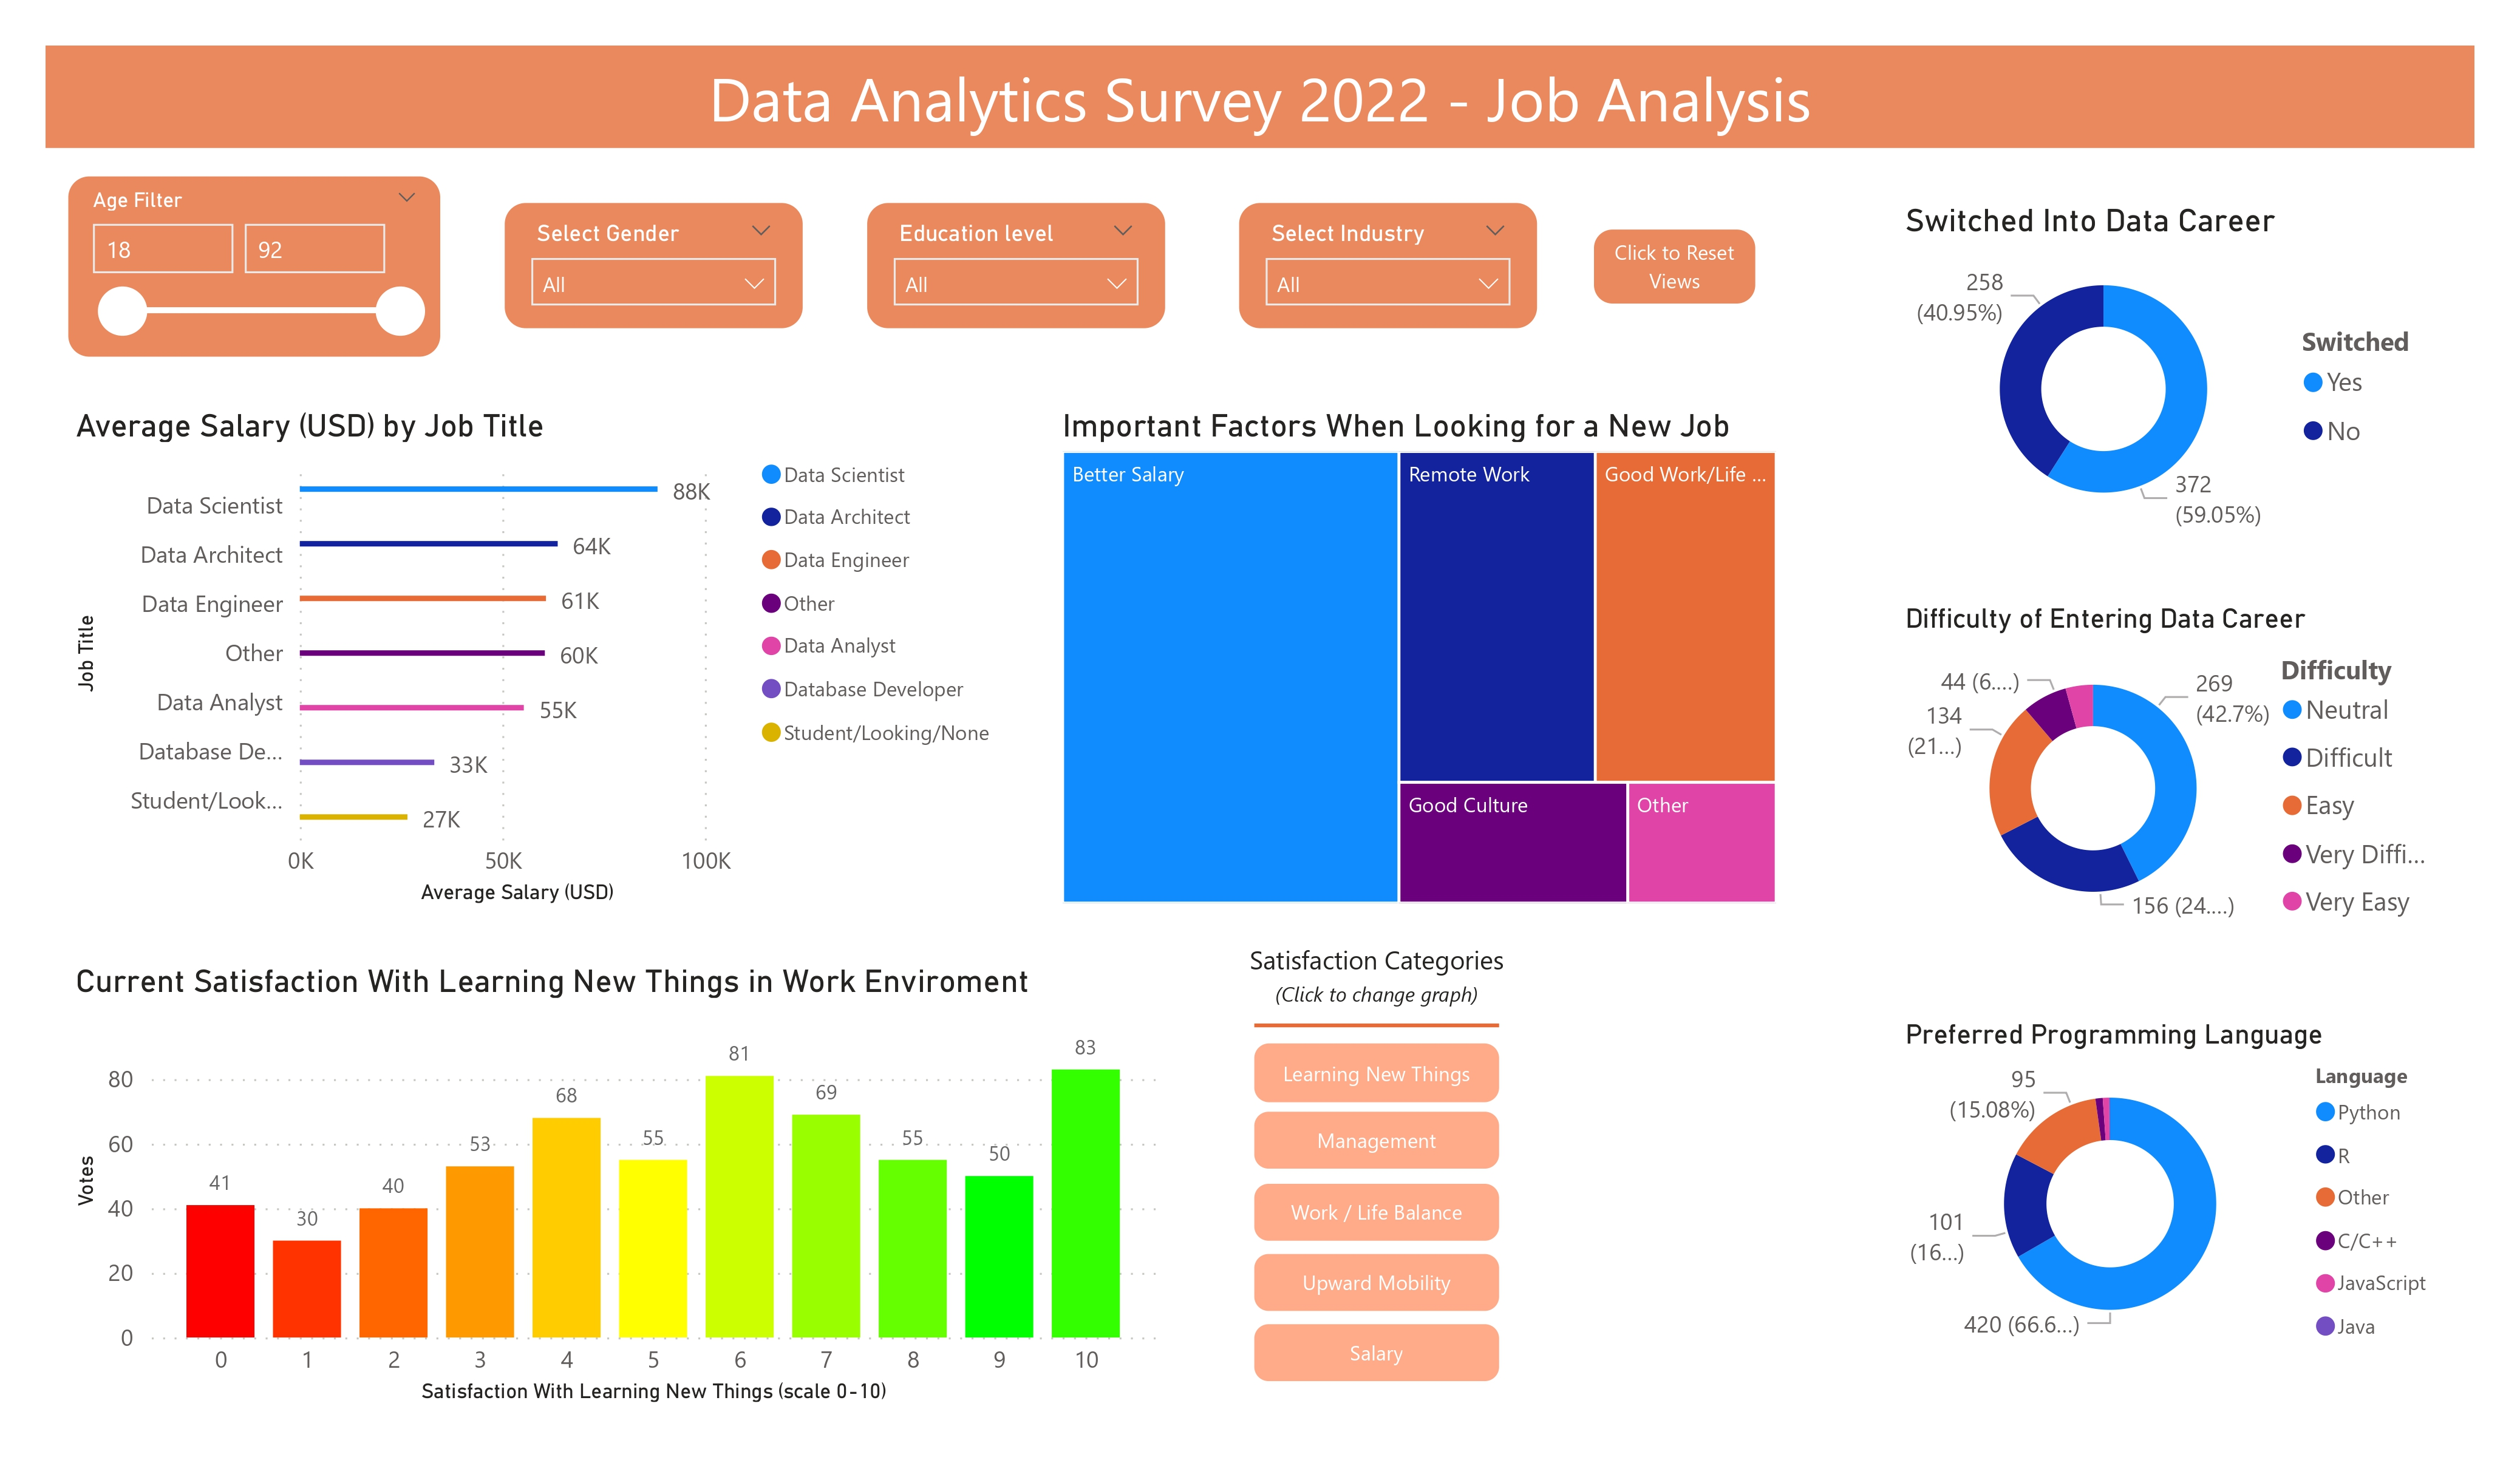

Layout of this report page (visuals, bound fields, positions):
{"tool":"powerbi","page":{"name":"Job Analysis","canvas":[1280,720],"ordinal":1},"visuals":[{"type":"textbox","box":[0,0,1280,54.3],"z":0},{"type":"clusteredBarChart","title":"Average Salary (USD) by Job Title","fields":{"Y":["Avg(Data Professional Survey.Average Salary (USD))"],"Category":["Data Professional Survey.Q1 - Which Title Best Fits your Current Role?"],"Series":["Data Professional Survey.Q1 - Which Title Best Fits your Current Role?"]},"box":[11.2,190.2,500.5,267],"z":3000},{"type":"slicer","fields":{"Values":["Data Professional Survey.Q12 - Highest Level of Education"]},"box":[431.8,82.3,159.2,68.1],"z":4000},{"type":"slicer","fields":{"Values":["Data Professional Survey.Q10 - Current Age"]},"box":[11.5,68.1,197.7,97.2],"z":5000},{"type":"donutChart","title":"Preferred Programming Language","fields":{"Category":["Data Professional Survey.Q5 - Favorite Programming Language"],"Y":["CountNonNull(Data Professional Survey.Unique ID)"]},"box":[974.8,512.8,294.4,178.8],"z":6000},{"type":"donutChart","title":"Switched Into Data Career","fields":{"Category":["Data Professional Survey.Q2 - Did you switch careers into Data?"],"Y":["Count(Data Professional Survey.Unique ID)"]},"box":[974.8,82.3,294.4,178.8],"z":7000},{"type":"donutChart","title":"Difficulty of Entering Data Career","fields":{"Category":["Data Professional Survey.Q7 - How difficult was it for you to break into Data?"],"Y":["CountNonNull(Data Professional Survey.Unique ID)"]},"box":[974.8,294.4,294.4,178.8],"z":8000},{"type":"slicer","fields":{"Values":["Data Professional Survey.Q4 - What Industry do you work in?"]},"box":[627.5,82.3,159.2,68.1],"z":9000},{"type":"slicer","fields":{"Values":["Data Professional Survey.Q9 - Male/Female?"]},"box":[240.9,82.3,159.2,68.1],"z":10000},{"type":"shape","box":[815.8,97.2,85,39.1],"z":11000},{"type":"shape","box":[637,526.3,128.9,30.4],"z":12000},{"type":"shape","box":[637,674.1,128.9,30.4],"z":13000},{"type":"shape","box":[637,637,128.9,30.4],"z":14000},{"type":"shape","box":[637,562.1,128.9,30.4],"z":15000},{"type":"shape","box":[637,599.9,128.9,30.4],"z":16000},{"type":"textbox","box":[616,467.6,170.7,45.2],"z":17000},{"type":"shape","box":[636.8,509.5,129.1,13.2],"z":18000},{"type":"clusteredColumnChart","title":"Current Satisfaction With Learning New Things in Work Enviroment","fields":{"Category":["Data Professional Survey.Q6 - How Happy are you in your Current Position with the following? (Learning New Things)"],"Y":["CountNonNull(Data Professional Survey.Unique ID)"]},"box":[10.8,482.8,579.5,236.8],"z":24000},{"type":"treemap","title":"Important Factors When Looking for a New Job","fields":{"Group":["Data Professional Survey.Q8 - If you were to look for a new job today, what would be the most important thing to you?"],"Values":["CountNonNull(Data Professional Survey.Unique ID)"]},"box":[531.1,190.2,386.4,267],"z":25000}]}

Visuals, with their boxes in screenshot pixels (x1, y1, x2, y2):
textbox: (46,46,2474,149)
"Average Salary (USD) by Job Title" clusteredBarChart: (67,406,1017,913)
slicer - Data Professional Survey.Q12 - Highest Level of Education: (865,202,1167,331)
slicer - Data Professional Survey.Q10 - Current Age: (67,175,443,359)
"Preferred Programming Language" donutChart: (1895,1018,2454,1357)
"Switched Into Data Career" donutChart: (1895,202,2454,541)
"Difficulty of Entering Data Career" donutChart: (1895,604,2454,943)
slicer - Data Professional Survey.Q4 - What Industry do you work in?: (1236,202,1538,331)
slicer - Data Professional Survey.Q9 - Male/Female?: (503,202,805,331)
shape: (1593,230,1755,304)
shape: (1255,1044,1499,1102)
shape: (1255,1325,1499,1382)
shape: (1255,1254,1499,1312)
shape: (1255,1112,1499,1170)
shape: (1255,1184,1499,1241)
textbox: (1214,932,1538,1019)
shape: (1254,1012,1499,1037)
"Current Satisfaction With Learning New Things in Work Enviroment" clusteredColumnChart: (66,962,1166,1411)
"Important Factors When Looking for a New Job" treemap: (1054,406,1786,913)
